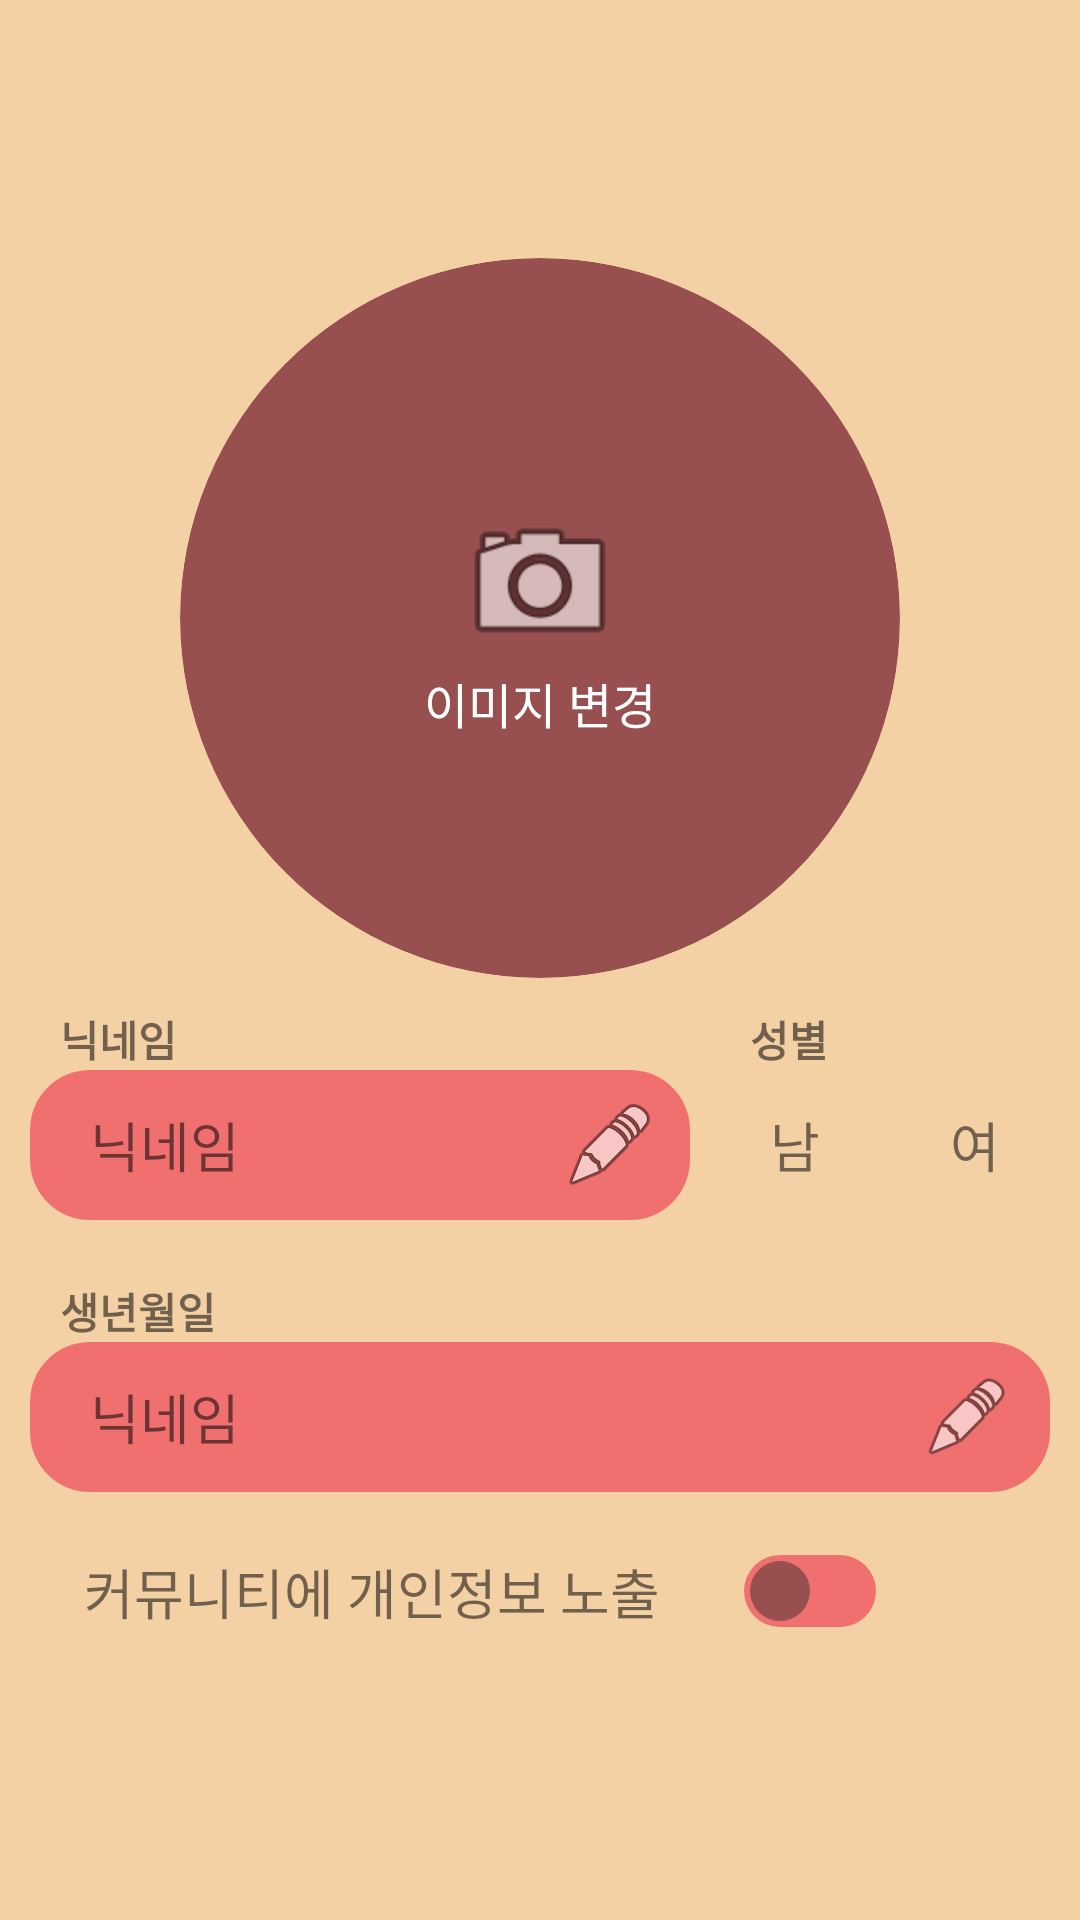

Icons on this 1080×1920 Android screen, each with its box as bbox=[x1, y1, x2, y2]:
camera: bbox=[475, 528, 605, 632]
edit: bbox=[569, 1104, 650, 1185], bbox=[929, 1378, 1005, 1455]
